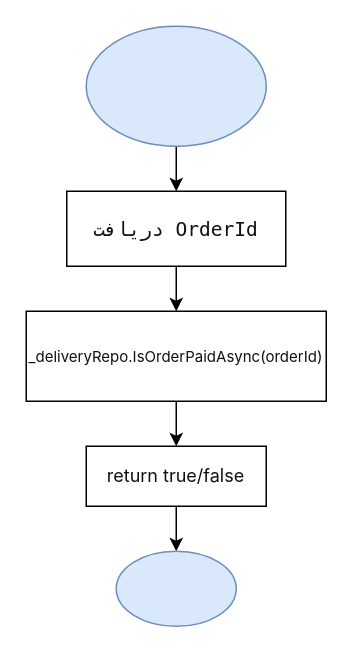
This 353x653 diagram has some shape labels left out. The shapes that lost their labels are listed below. From the top down, each one's centre as x and y in pixels, then its label:
At point (175, 85): "شروع IsOrderPaidAsync".
At point (175, 588): "پایان".
